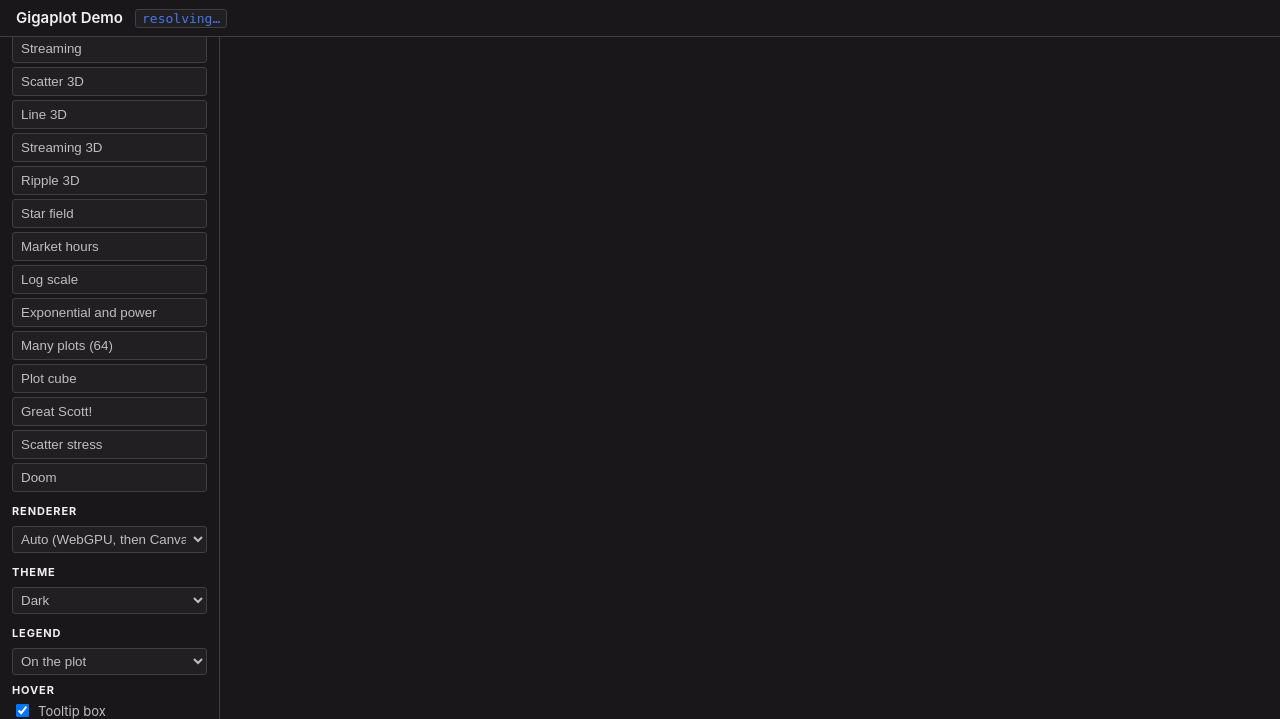
Test: puts six streaming plots on the cube and starts them immediately
The image size is (1280, 719).
(page scrolled)
Click the button with test id "example-cube" at (110, 378), box [12, 364, 207, 393]
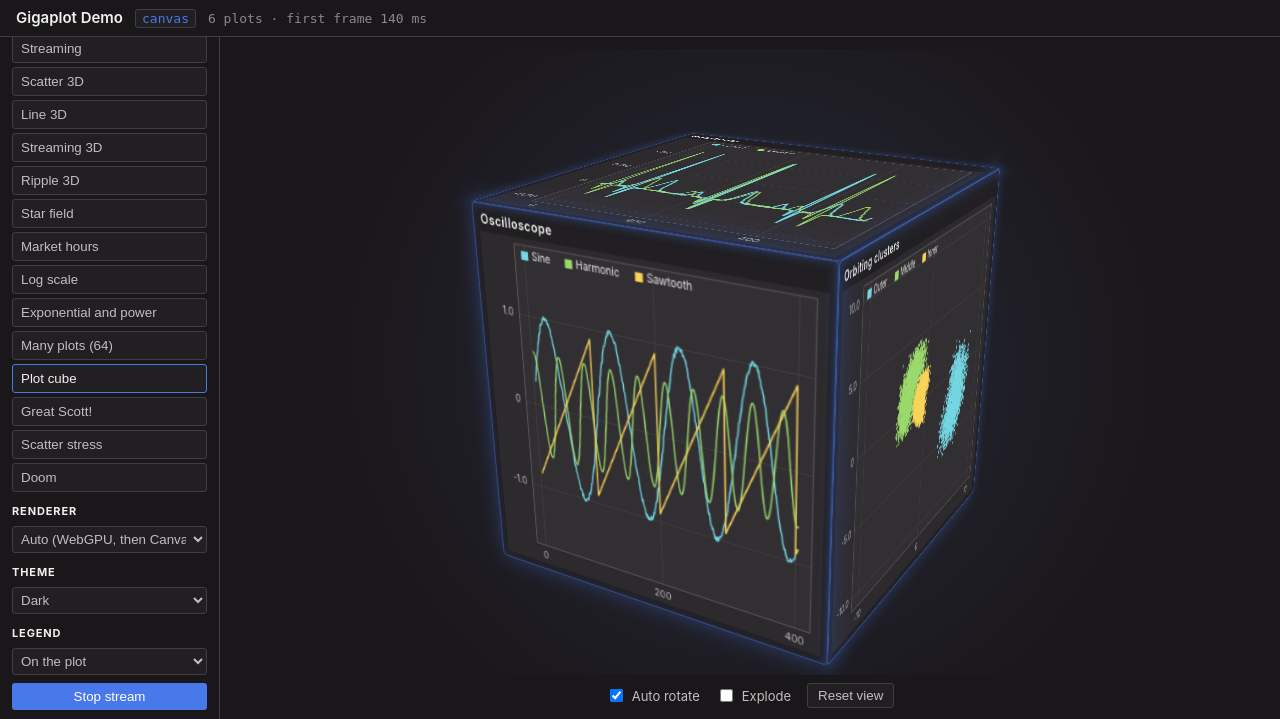
Expected: the element with test id "plot-cube" that starts with "Oscilloscope" is shown
Expected: the text "Oscilloscope" is shown, [479, 210, 552, 238]
Expected: the button with test id "toggle-streaming" reads "Stop stream"
Click the button with test id "toggle-streaming" at (110, 696), box [12, 683, 207, 710]
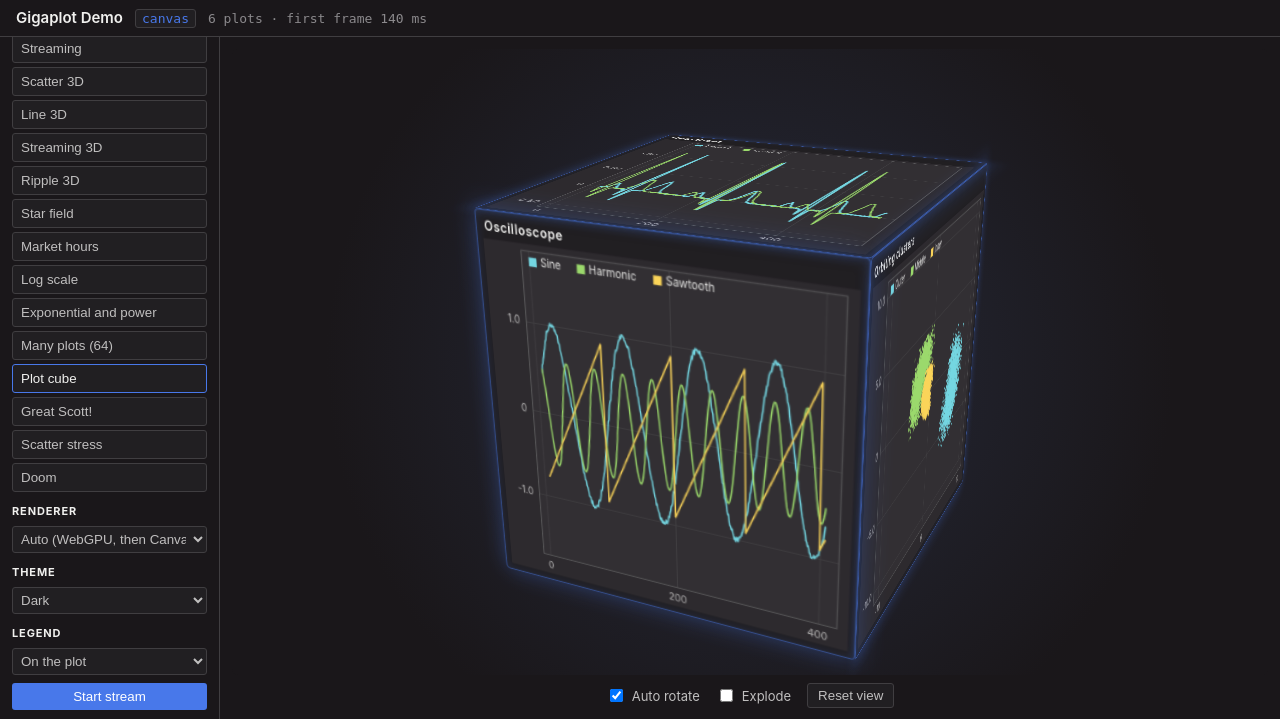
Expected: the button with test id "toggle-streaming" reads "Start stream", [12, 683, 207, 710]
